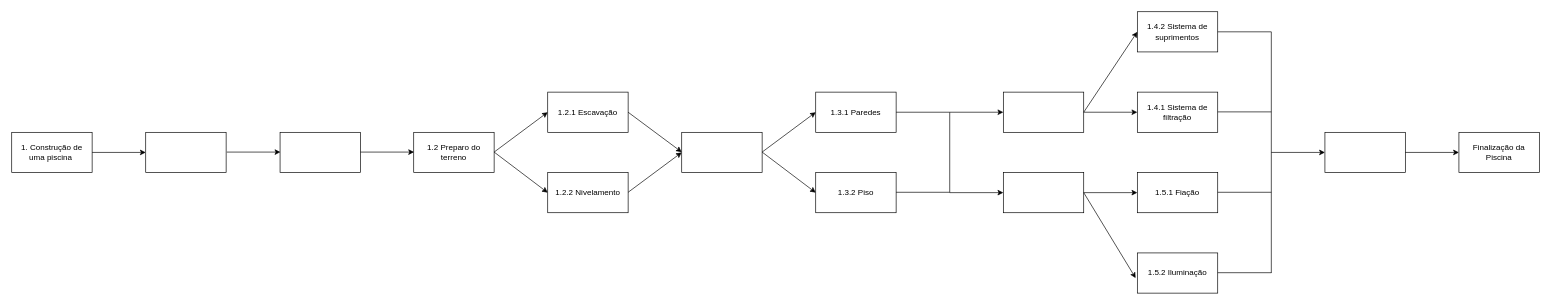
Image size: 1551x305. Some labels were removed from this diagram. Here are the shapes that lost their labels. From the top down, the centre of each, then its label:
[1043,111]: 1.4 Encanamento
[185,152]: 1.1. Levantamento de preços
[319,152]: 1.1.1 Compra dos materiais
[721,152]: 1.3 Estruturação
[1364,152]: 1.3.1.1 Acrescentar os ladrilhos
[1043,192]: 1.5 Eletricidade
